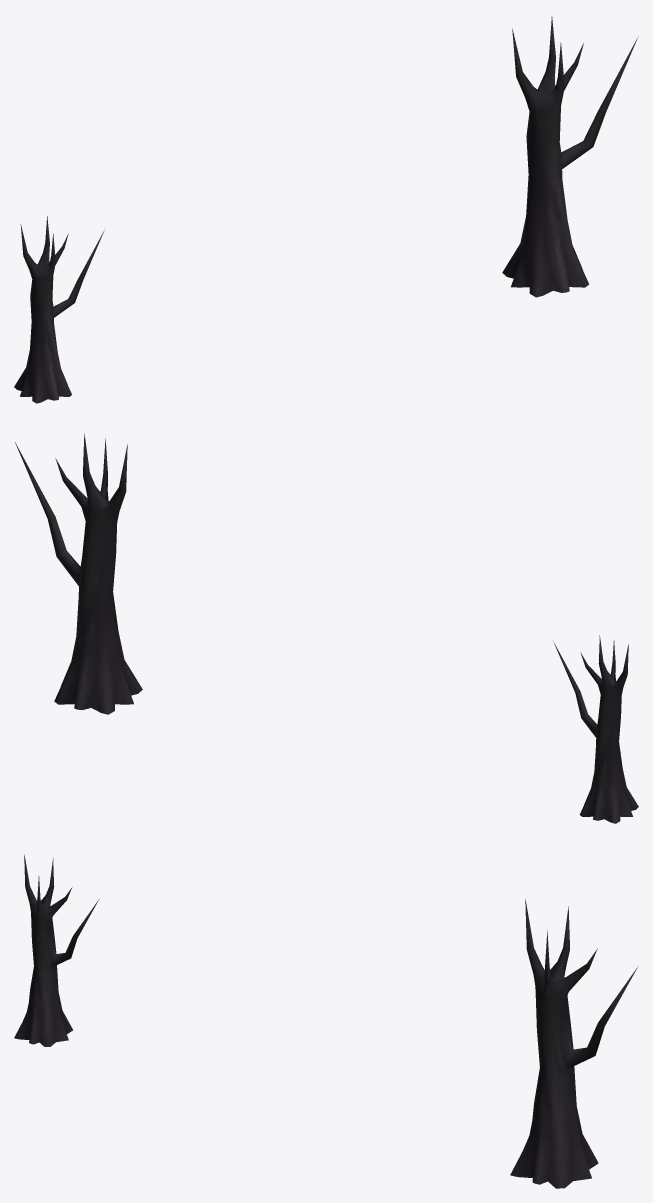
File: Area10_9.fbx
3 renders of one model, top to bottom at view 1: azimuth 30°, elevation 25°; view 2: azimuth 150°, elevation 25°; view 3: azimuth 330°, elevation 25°, orthographic.
Parts seen in each view (by area): view 1: Area10_9; view 2: Area10_9; view 3: Area10_9.
Part boxes in pixels (x1=…): Area10_9: x1=14, y1=16, x2=638, y2=403; Area10_9: x1=15, y1=433, x2=638, y2=823; Area10_9: x1=14, y1=854, x2=637, y2=1188.
Bounding box in the file's own units: 3901 × 1574 × 425.
